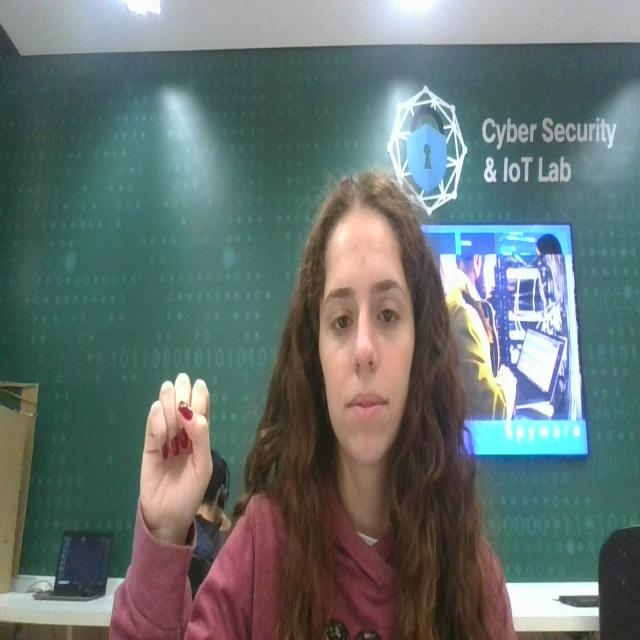S: (139, 367, 226, 551)
